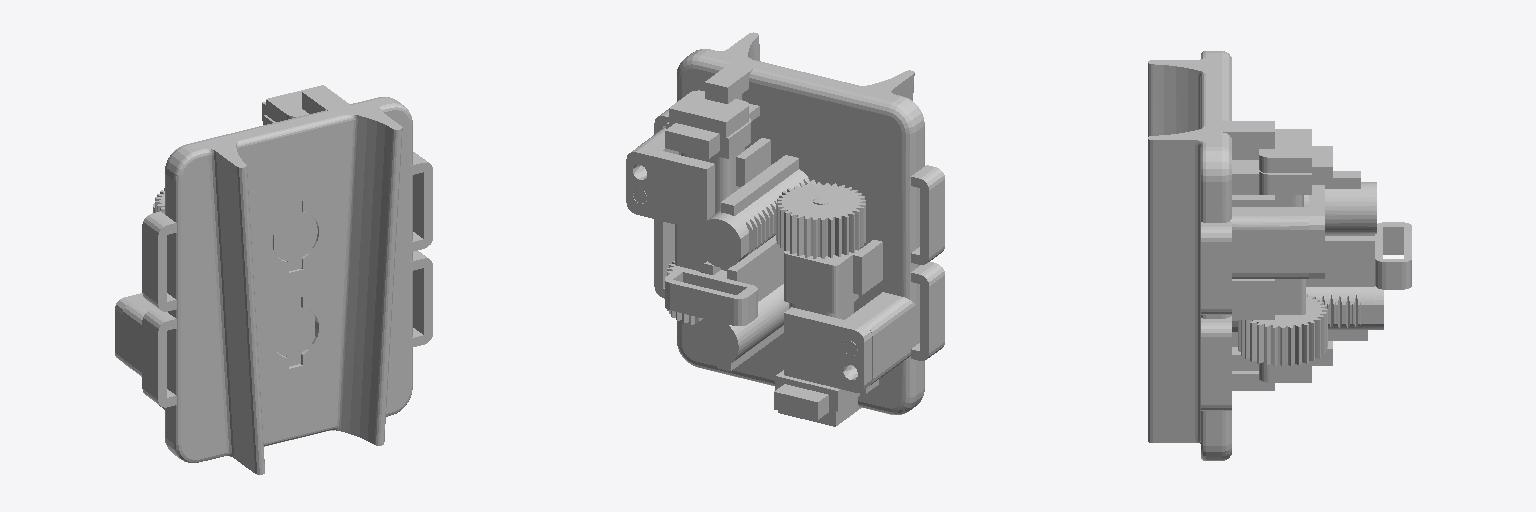
The model's file is movepress.obj.
The picture shows the model from 3 angles: view 1: azimuth 30°, elevation 25°; view 2: azimuth 150°, elevation 25°; view 3: azimuth 270°, elevation 25°; orthographic projection.
Visible parts, largest first — view 1: Solid1:7, Solid1:3, Solid1:9, Solid1:6, Solid1:5; view 2: Solid1:7, Solid1, Solid1:6, Solid1:3, Solid1:2, Solid1:5, Solid1:8, Solid1:4, Solid1:9; view 3: Solid1:7, Solid1:6, Solid1:1, Solid1:3, Solid1:4, Solid1:8, Solid1, Solid1:9.
Part boxes in pixels (x1,y1,x2,y2): Solid1:7: (122, 86, 432, 474); Solid1:3: (272, 201, 317, 270); Solid1:9: (272, 298, 314, 366); Solid1:6: (262, 85, 340, 124); Solid1:5: (115, 293, 145, 361); Solid1:7: (633, 32, 944, 414); Solid1: (774, 198, 859, 426); Solid1:6: (665, 90, 750, 271); Solid1:3: (697, 155, 810, 270); Solid1:2: (776, 182, 865, 258); Solid1:5: (784, 307, 871, 392); Solid1:8: (626, 146, 714, 229); Solid1:4: (695, 286, 788, 371); Solid1:9: (734, 284, 788, 368); Solid1:7: (1148, 51, 1411, 460); Solid1:6: (1259, 129, 1332, 314); Solid1:1: (1238, 293, 1327, 366); Solid1:3: (1304, 171, 1376, 235); Solid1:4: (1232, 286, 1383, 340); Solid1:8: (1309, 185, 1324, 278); Solid1: (1259, 341, 1332, 382); Solid1:9: (1232, 288, 1377, 340).
Bounding box in the file's own units: 60 × 65 × 50.